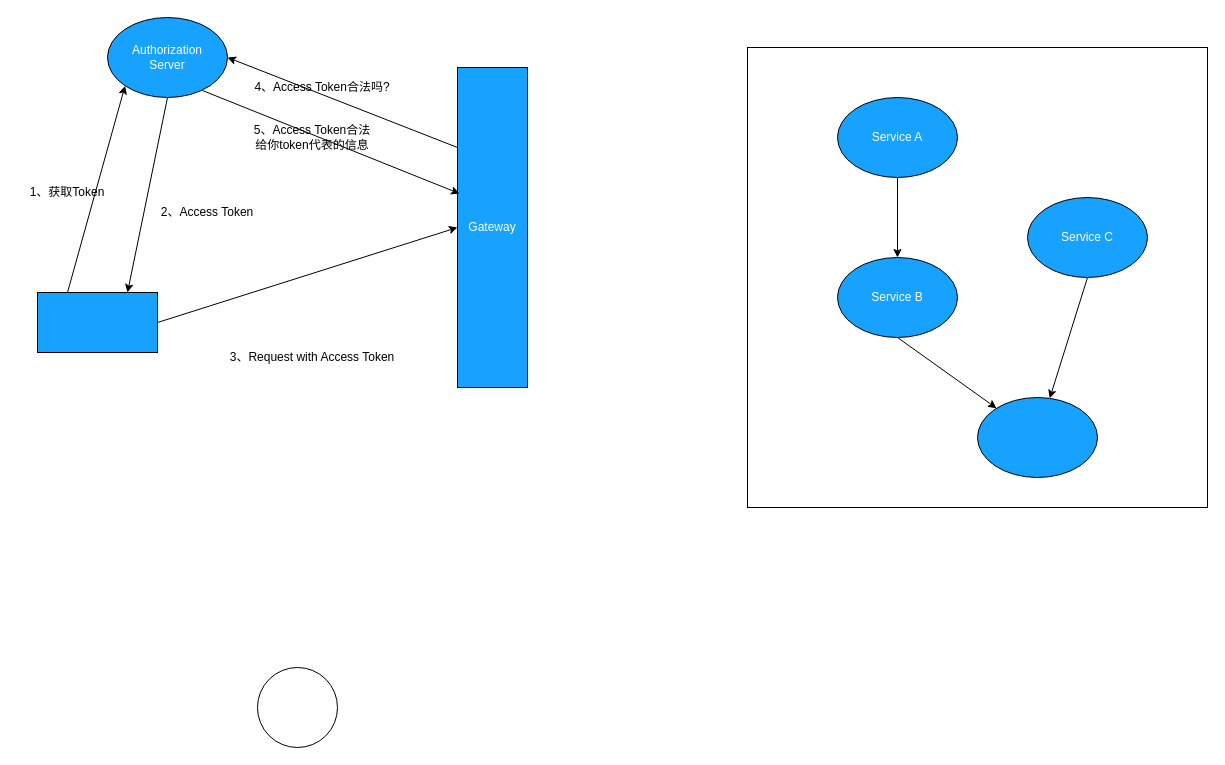
This 1225x765 diagram has some shape labels left out. Here are the shapes that lost their labels. From the top down, the centre of each, then its label:
At [97,322]: "Client".
At [1037,437]: "Service D".
